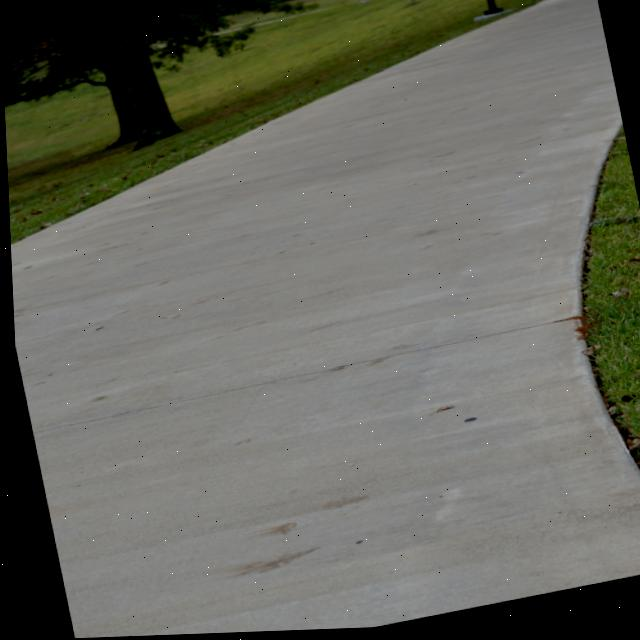Sidewalk: (9, 0, 640, 639)
